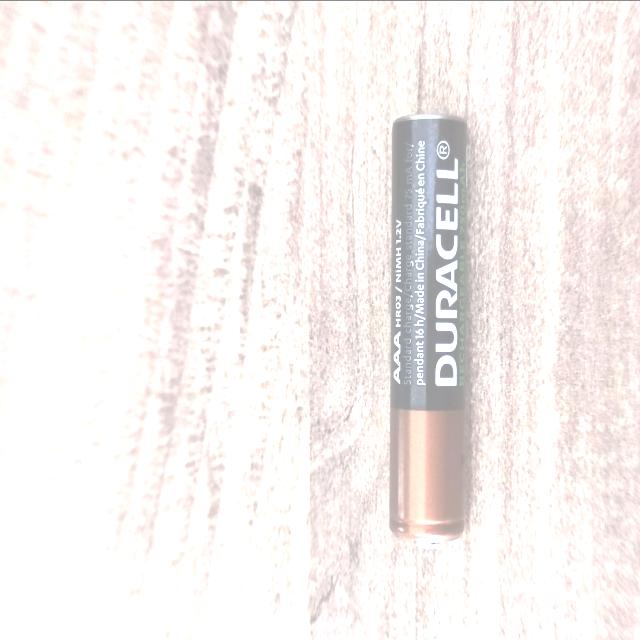AAA: (387, 109, 473, 558)
